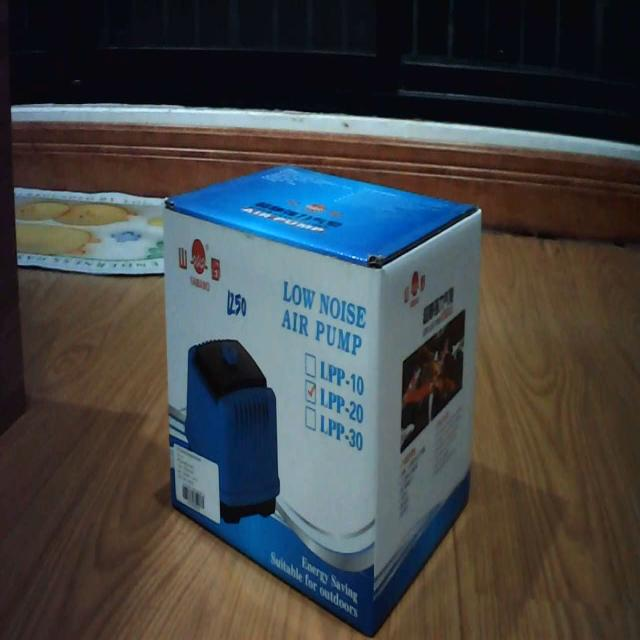YAMANO_LPP_20: (153, 143, 491, 640)
